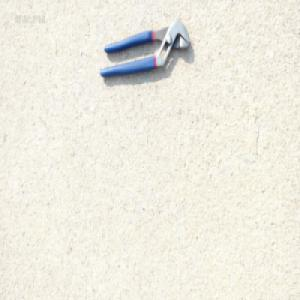Pliers: (99, 19, 191, 79)
